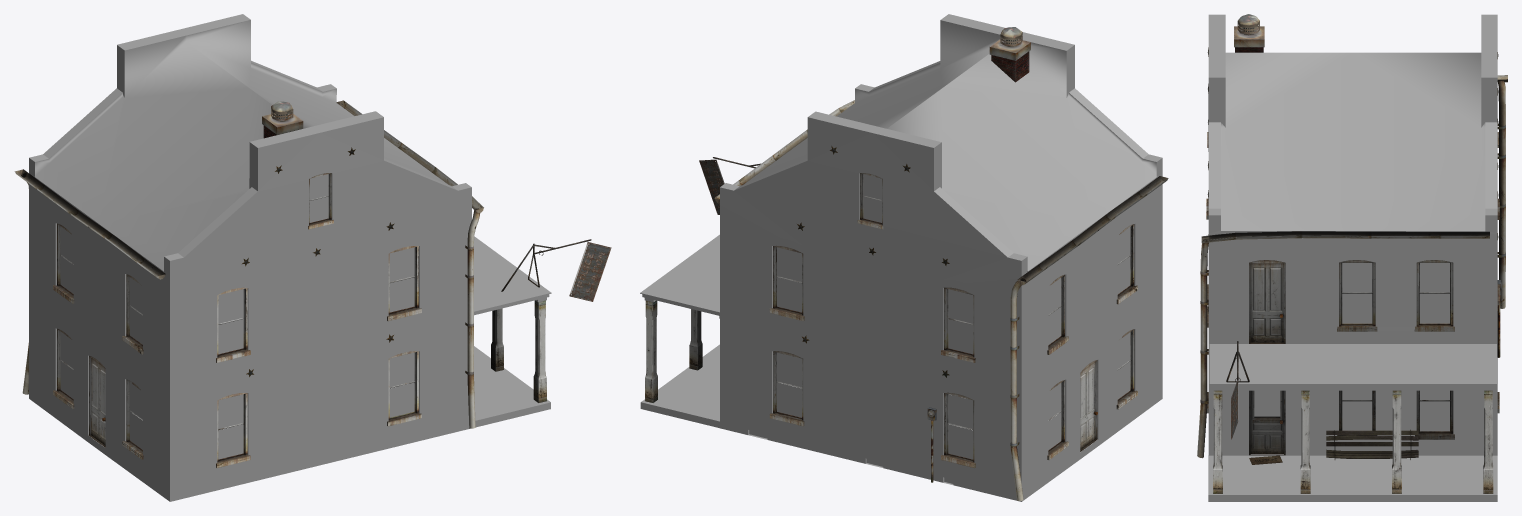
The model's file is 107_Main.fbx.
The picture shows the model from 3 angles, left to right: view 1: azimuth 30°, elevation 25°; view 2: azimuth 150°, elevation 25°; view 3: azimuth 270°, elevation 25°; orthographic projection. The views are drawn at different scales.
Visible parts, largest first — view 1: Exterior, Trims, Window_Glass, Trims_EXT_Transparent; view 2: Exterior, Trims, Window_Glass, Trims_EXT_Transparent; view 3: Exterior, Trims, Window_Glass, Trims_EXT_Transparent, Plaque.
Boxes of the visible parts, x1,y1,x2,y2 form: Exterior: (29,14,551,501); Trims: (14,100,591,468); Window_Glass: (60,174,414,459); Trims_EXT_Transparent: (271,101,611,301); Exterior: (640,14,1162,501); Trims: (645,39,1168,501); Window_Glass: (777,174,1130,459); Trims_EXT_Transparent: (699,27,1022,214); Exterior: (1208,14,1497,501); Trims: (1197,26,1507,493); Window_Glass: (1254,263,1449,431); Trims_EXT_Transparent: (1231,14,1411,459); Plaque: (1383,393,1406,415).
Size of the model in its own units: 30.36 by 22.19 by 17.25.
